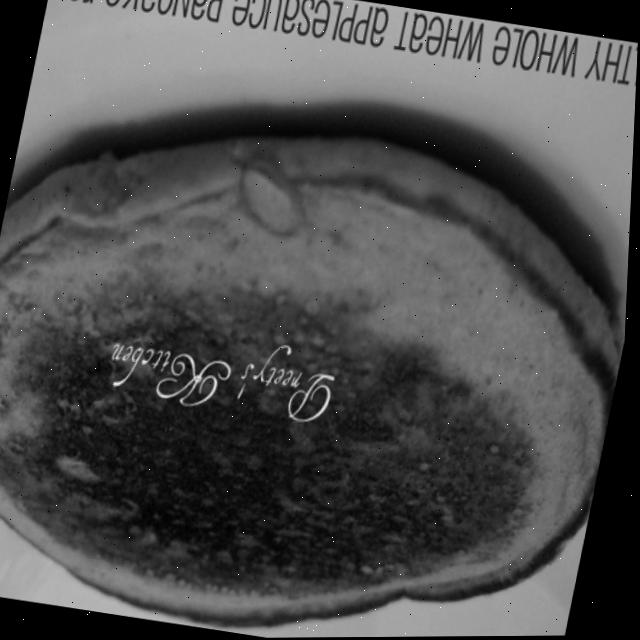蛋糕甜品: (0, 71, 637, 640)
